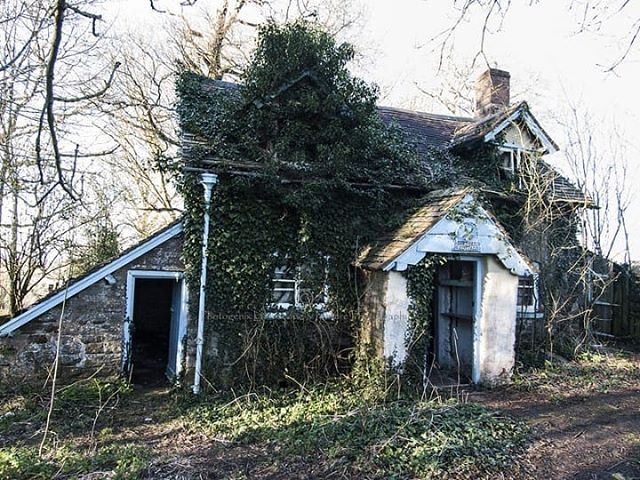building: (126, 74, 605, 383)
vegetation: (1, 374, 615, 480), (1, 4, 149, 313)
